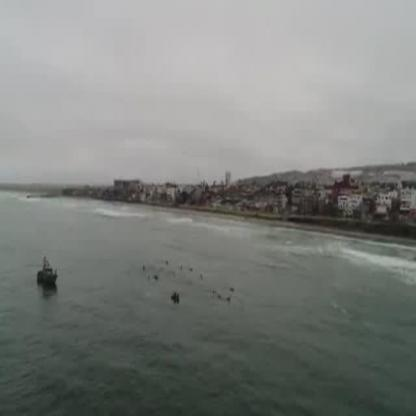Boat: (31, 254, 63, 300)
